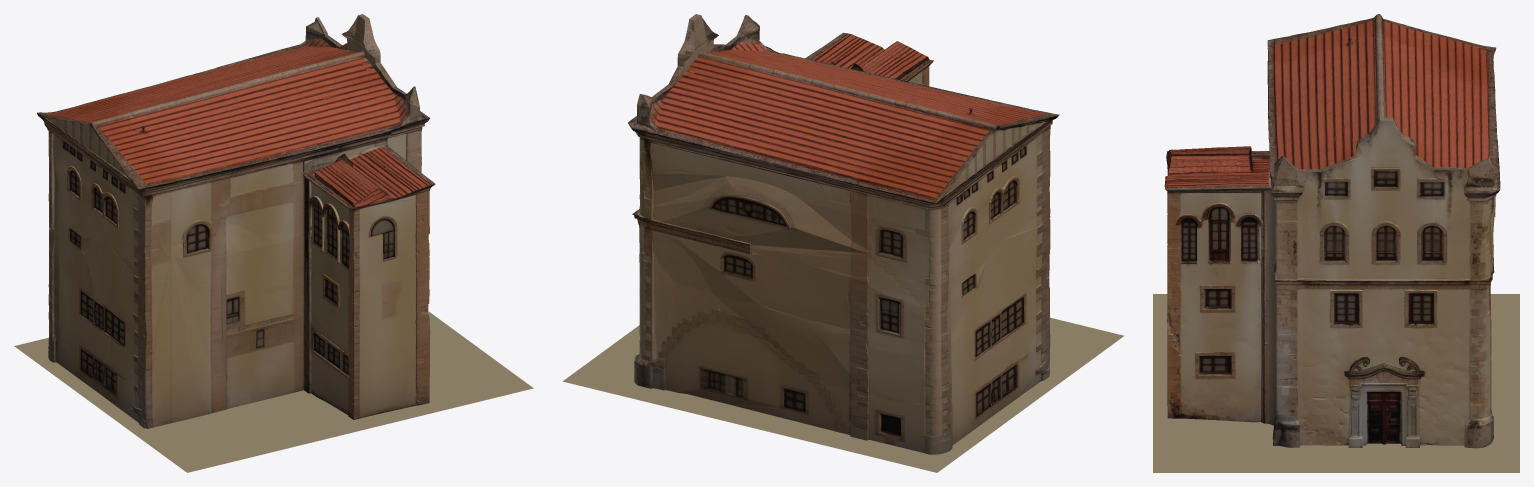
Rendered from sanbenedetto1.glb.
3 renders of one model, left to right at view 1: azimuth 30°, elevation 25°; view 2: azimuth 150°, elevation 25°; view 3: azimuth 270°, elevation 25°, orthographic. The views are drawn at different scales.
Visible parts, largest first — view 1: tripo_node_0f3f4113-39c1-4b06-b48e-e4d12042d20e, Piano; view 2: tripo_node_0f3f4113-39c1-4b06-b48e-e4d12042d20e, Piano; view 3: tripo_node_0f3f4113-39c1-4b06-b48e-e4d12042d20e, Piano.
Part boxes in pixels (x1,y1,x2,y2): tripo_node_0f3f4113-39c1-4b06-b48e-e4d12042d20e: (37,14,435,428); Piano: (14,311,533,472); tripo_node_0f3f4113-39c1-4b06-b48e-e4d12042d20e: (628,14,1059,454); Piano: (562,309,1124,472); tripo_node_0f3f4113-39c1-4b06-b48e-e4d12042d20e: (1164,14,1500,448); Piano: (1153,294,1519,472).
Size of the model in its own units: 1.15 by 0.9995 by 1.
Materials: 2 (1 with a texture image).
